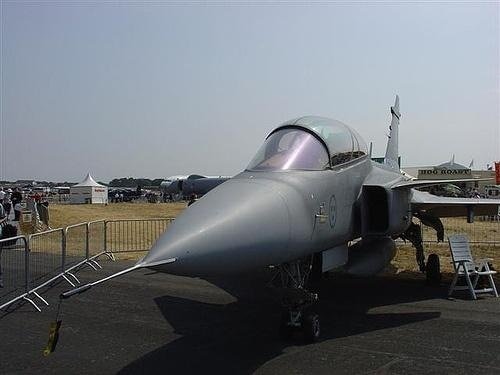aeroplane: (139, 96, 500, 341)
chair: (441, 232, 500, 304)
